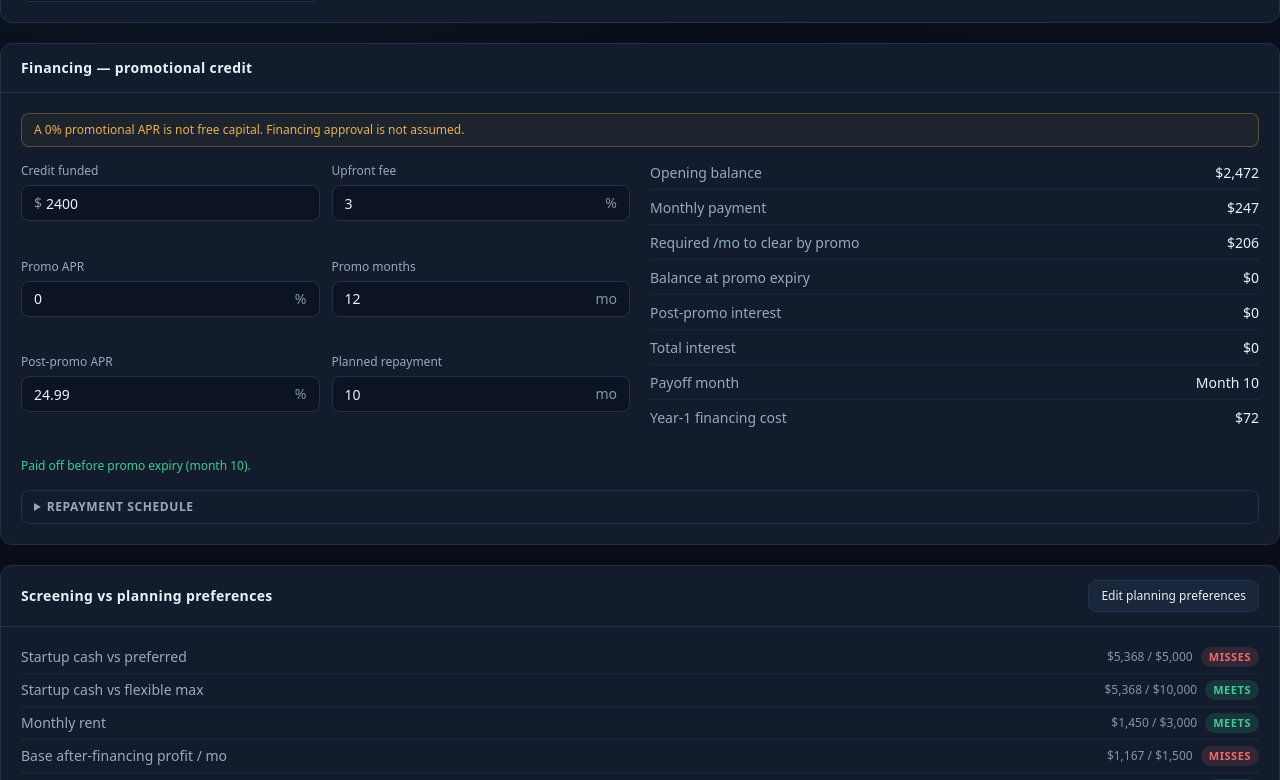
Test: Property Intelligence — underwriting › planned repayment beyond the promo warns about promo-expiry balance
(page scrolled)
Clear the number field labelled "Planned repayment" at [468, 394], box [344,377,591,411]
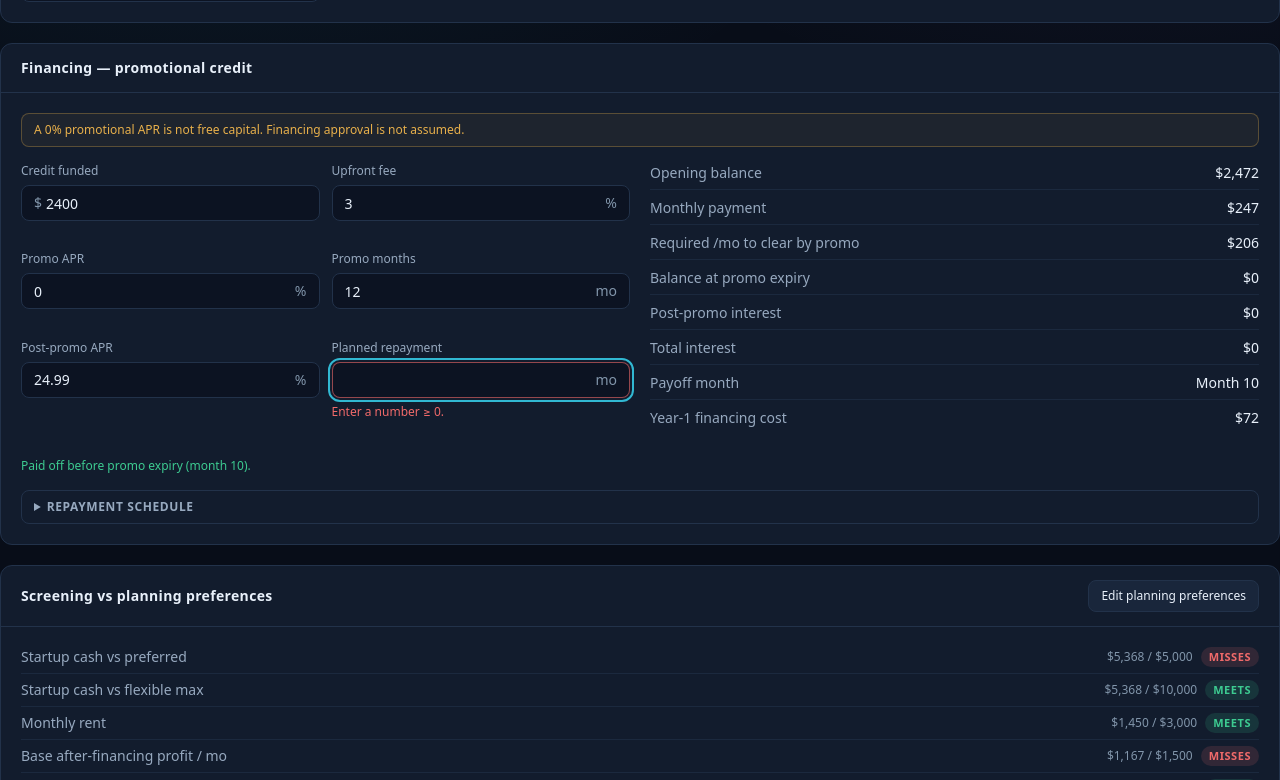
Type "18" into the number field labelled "Planned repayment" at [468, 380], box [344,363,591,397]
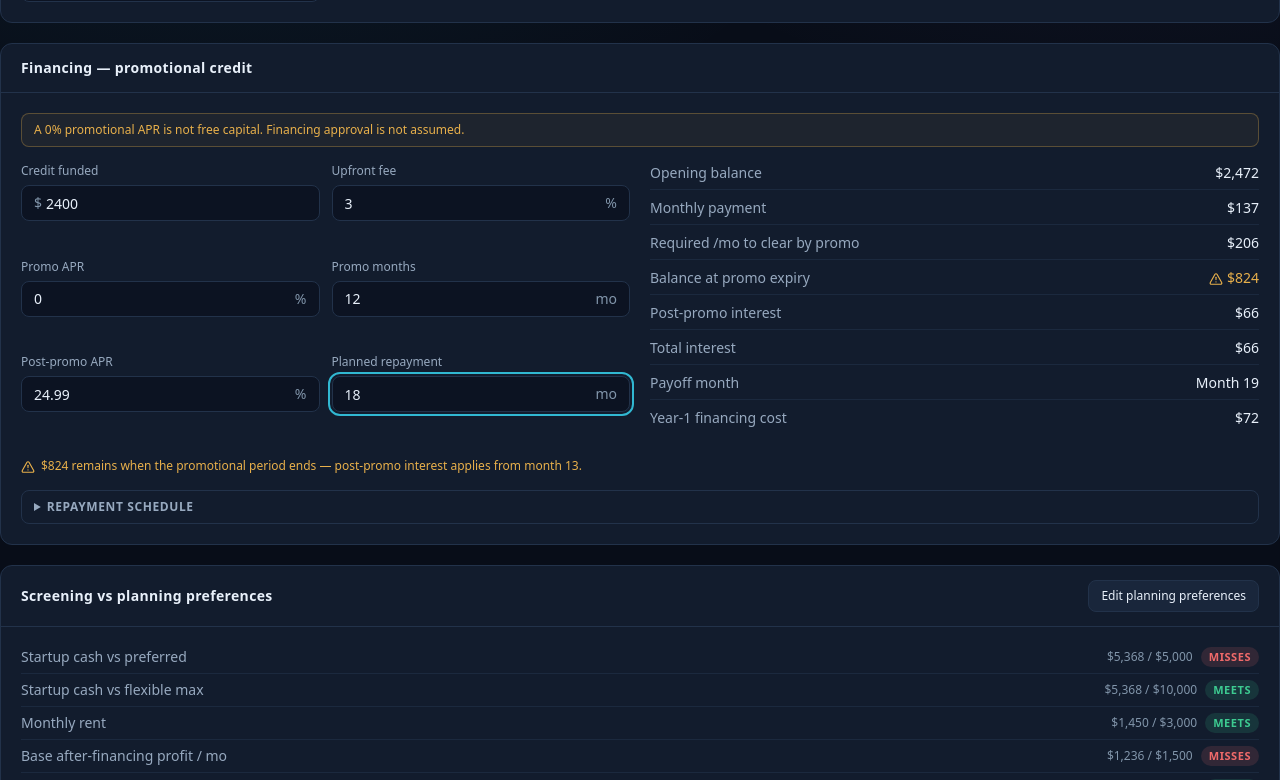
expect the text "remains when the promotional period ends" is shown: met, box [68,457,562,474]
